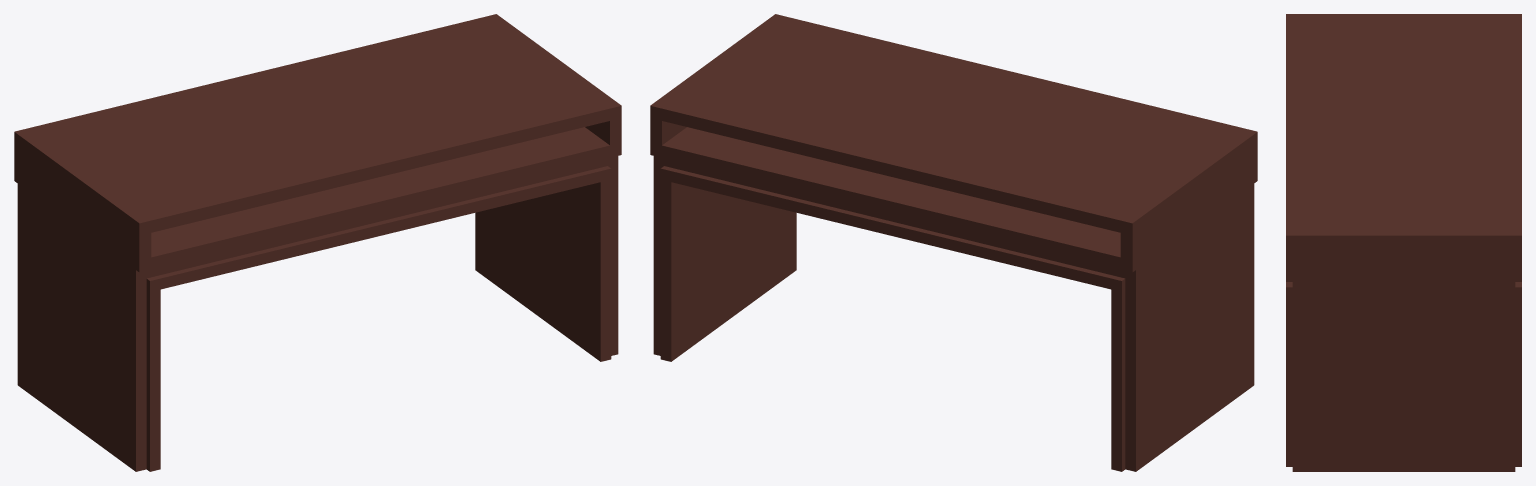
Rendered from Desks.glb.
3 views of the same model, side by side, from view 1: azimuth 30°, elevation 25°; view 2: azimuth 150°, elevation 25°; view 3: azimuth 270°, elevation 25° (orthographic). The views are drawn at different scales.
Visible parts, largest first — view 1: TableTop, Leg (×2); view 2: TableTop, Leg (×2); view 3: TableTop, Leg (×2).
Part boxes in pixels (<box>): TableTop: <box>14,14,621,272</box>; Leg (×2): <box>17,156,618,471</box>; TableTop: <box>650,14,1257,272</box>; Leg (×2): <box>653,156,1254,471</box>; TableTop: <box>1286,14,1521,281</box>; Leg (×2): <box>1286,282,1521,471</box>.
Bounding box in the file's own units: 2 × 0.995 × 0.9.
